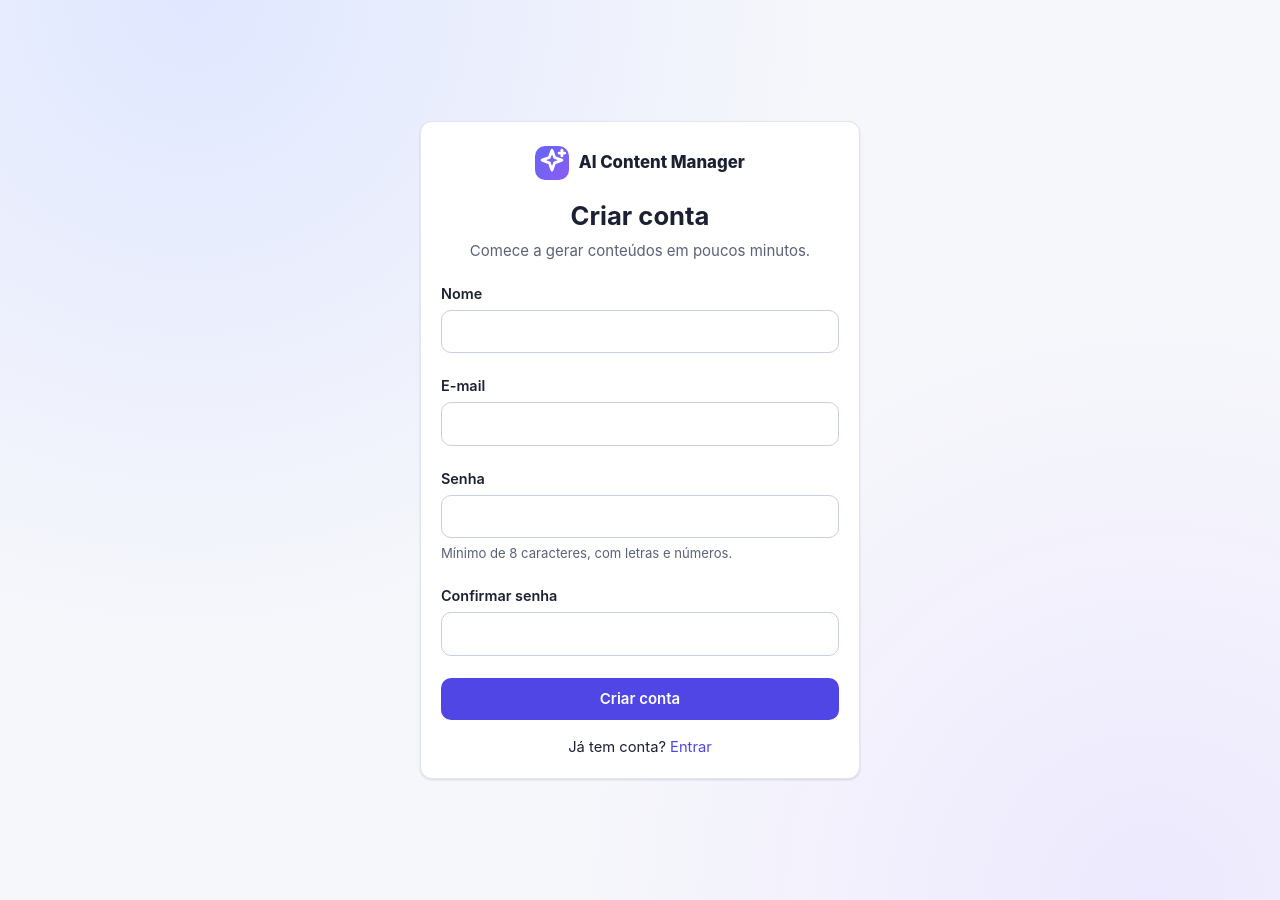
it: RegisterComponent › acusa confirmação de senha diferente
Type "Ana Souza" into the field labelled "Nome".
click(640, 332); type("Ana Souza")  # box [441, 310, 839, 354]
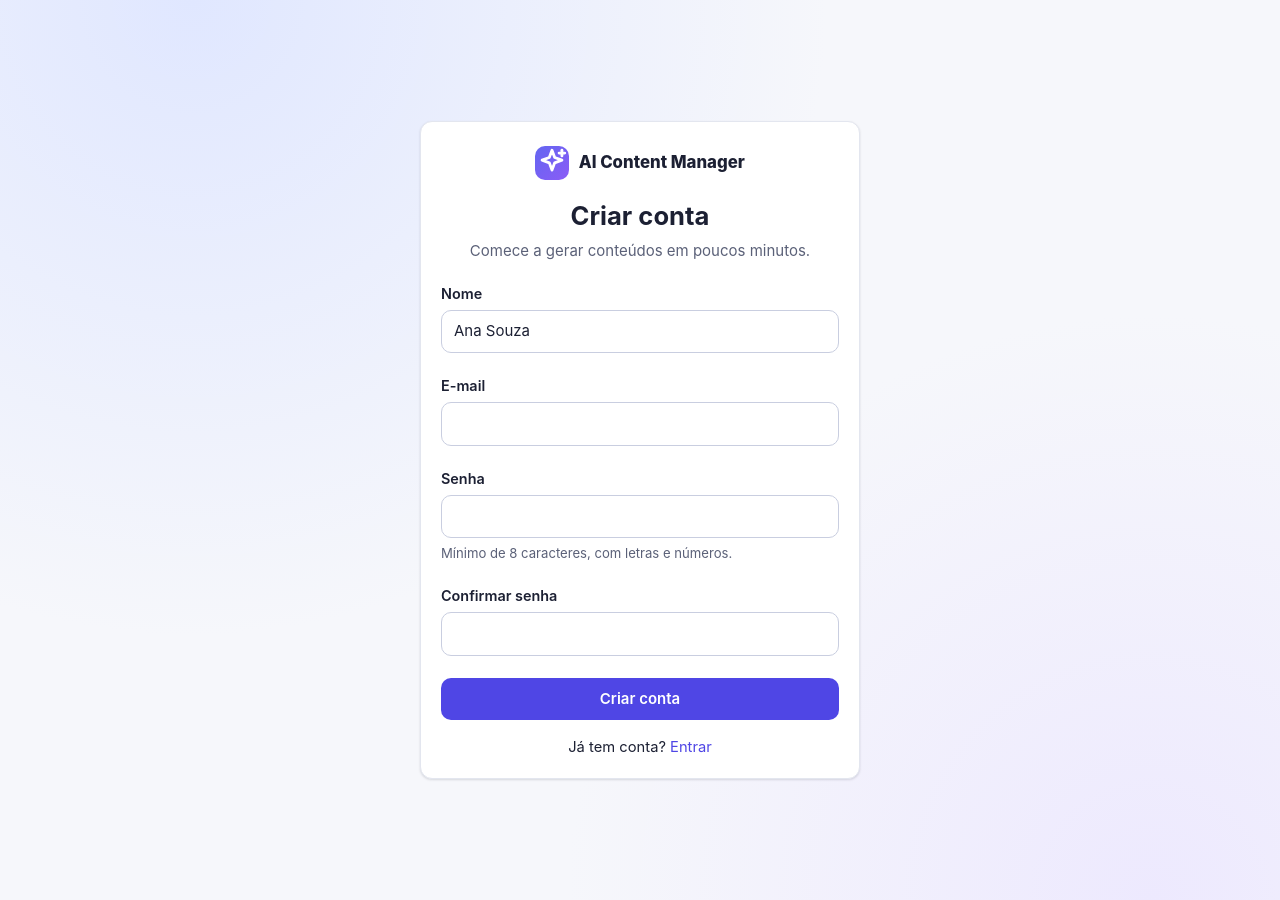
Type "ana@example.com" into the field labelled "E-mail".
click(640, 424); type("ana@example.com")  # box [441, 402, 839, 446]
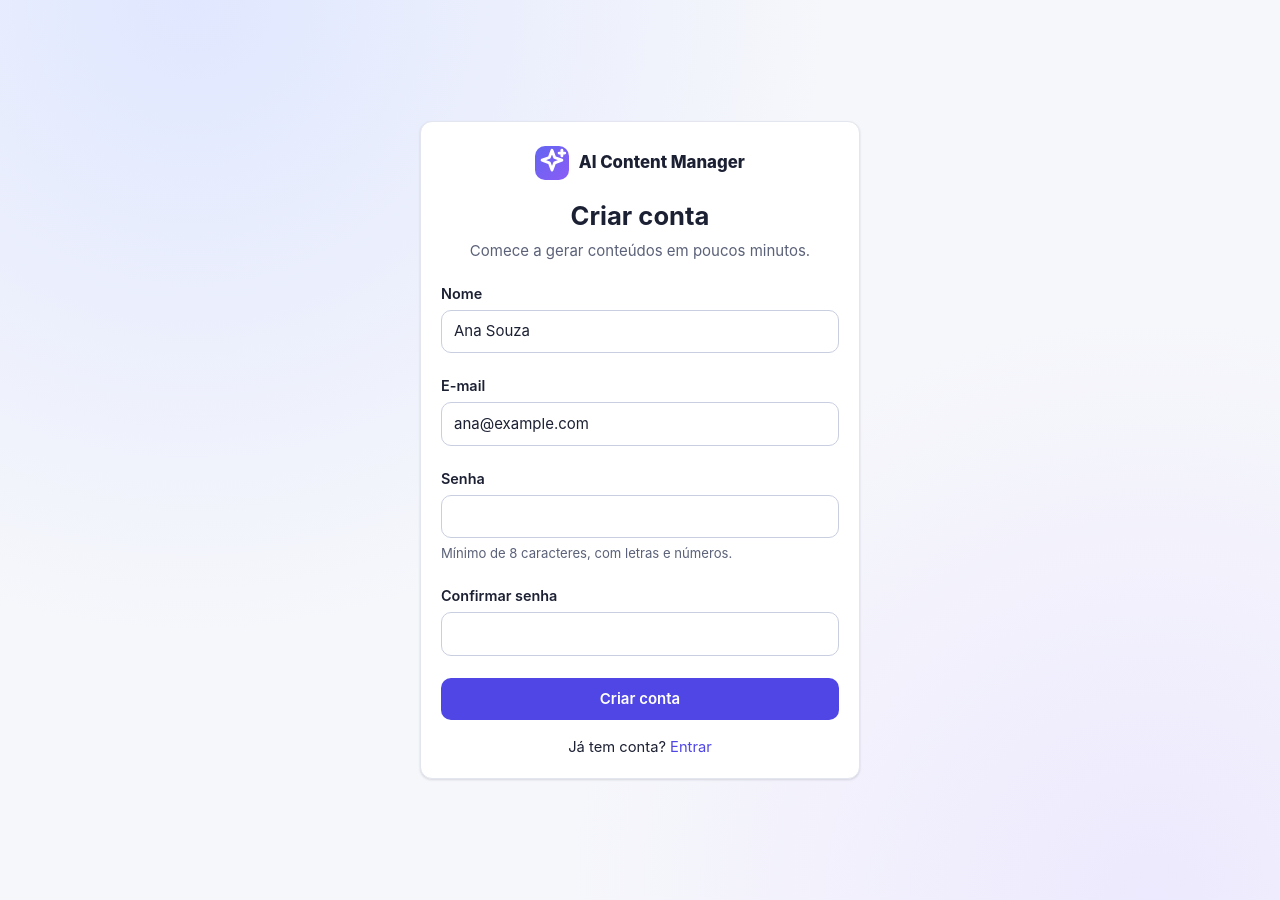
Type "Senha1234" into the password field labelled "Senha".
click(640, 517); type("Senha1234")  # box [441, 495, 839, 538]
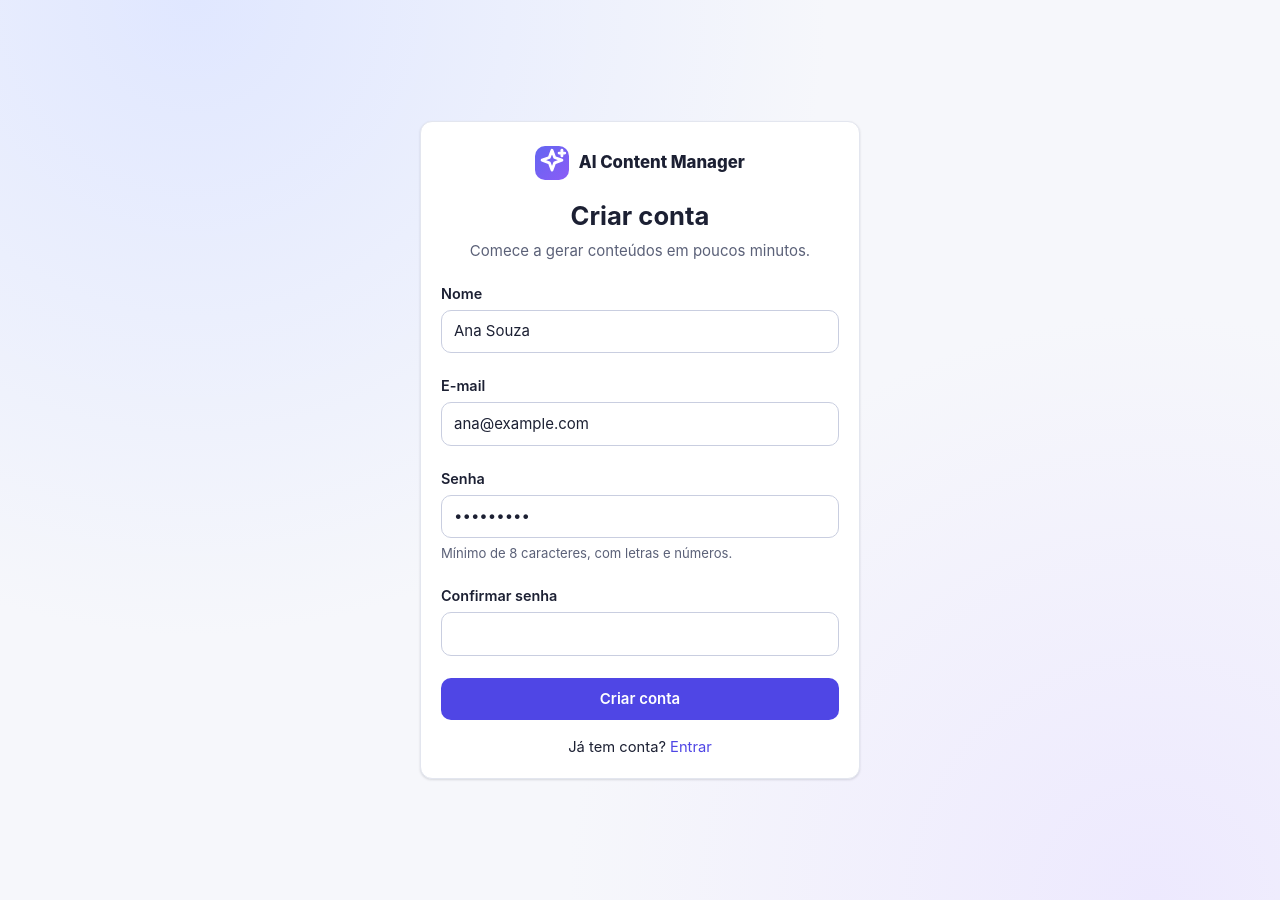
Type "Outra12345" into the password field labelled "Confirmar senha".
click(640, 634); type("Outra12345")  # box [441, 612, 839, 656]
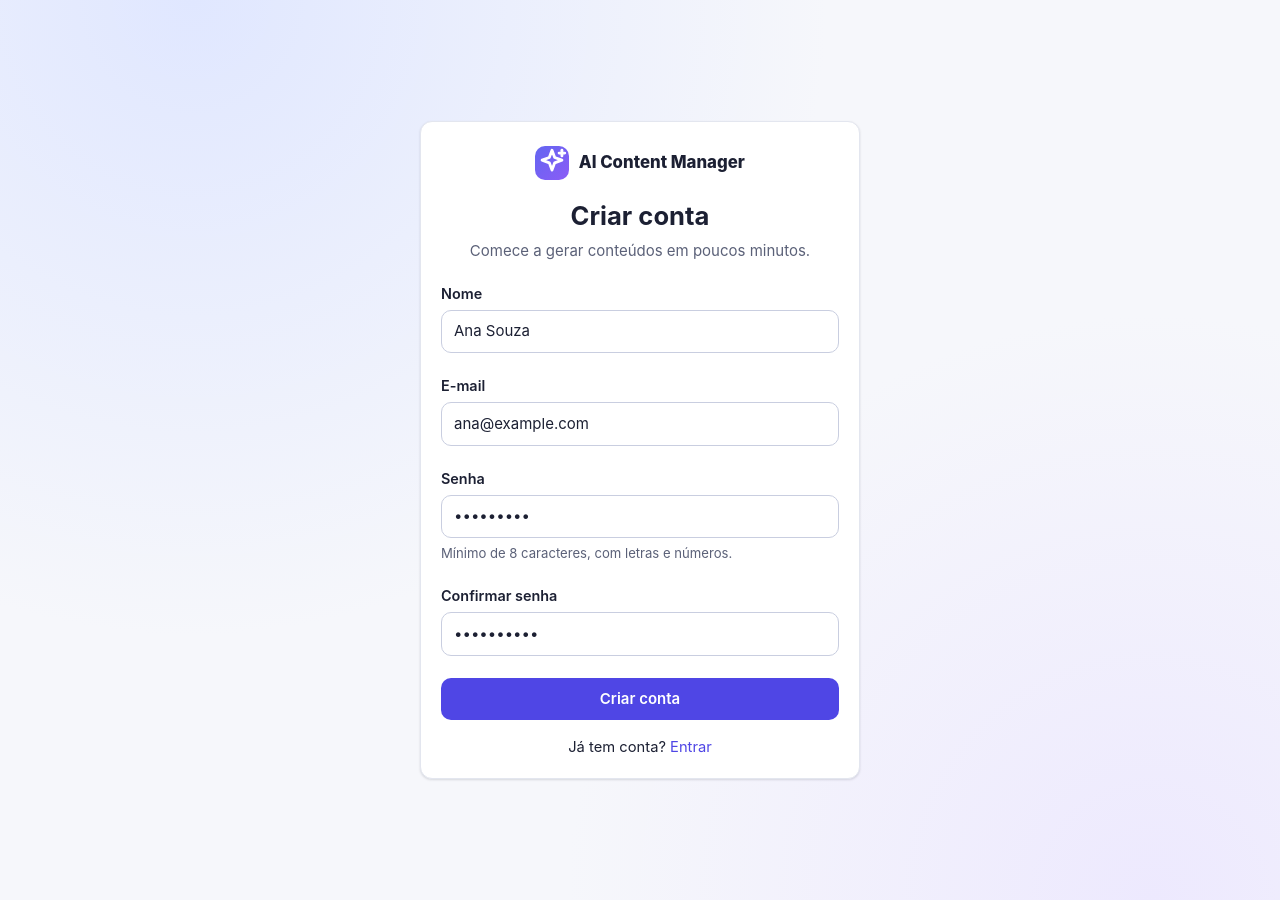
Submit the form, box [441, 282, 839, 720]
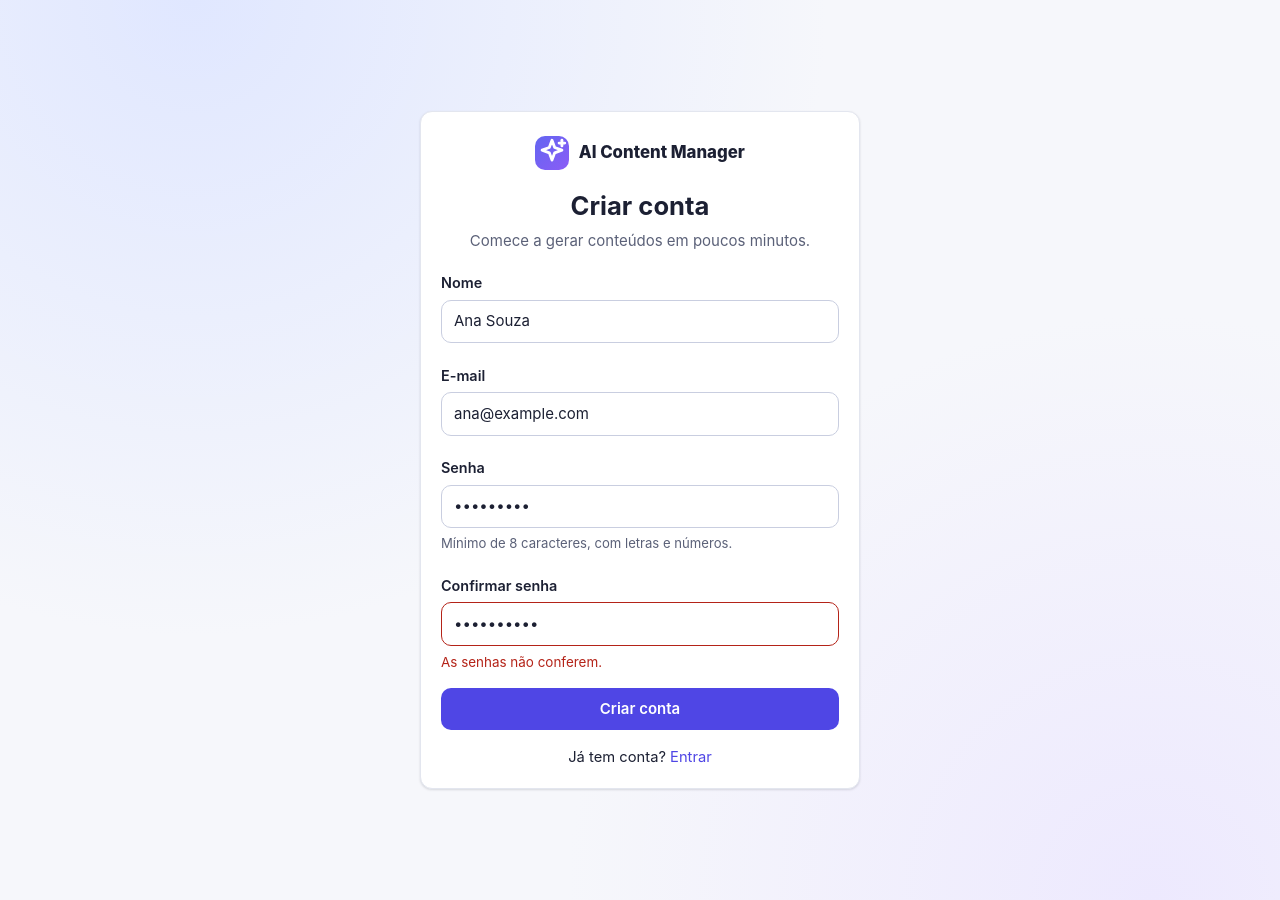
Expected: the message with id "confirm-error" shows "As senhas não conferem", [441, 654, 602, 670]
